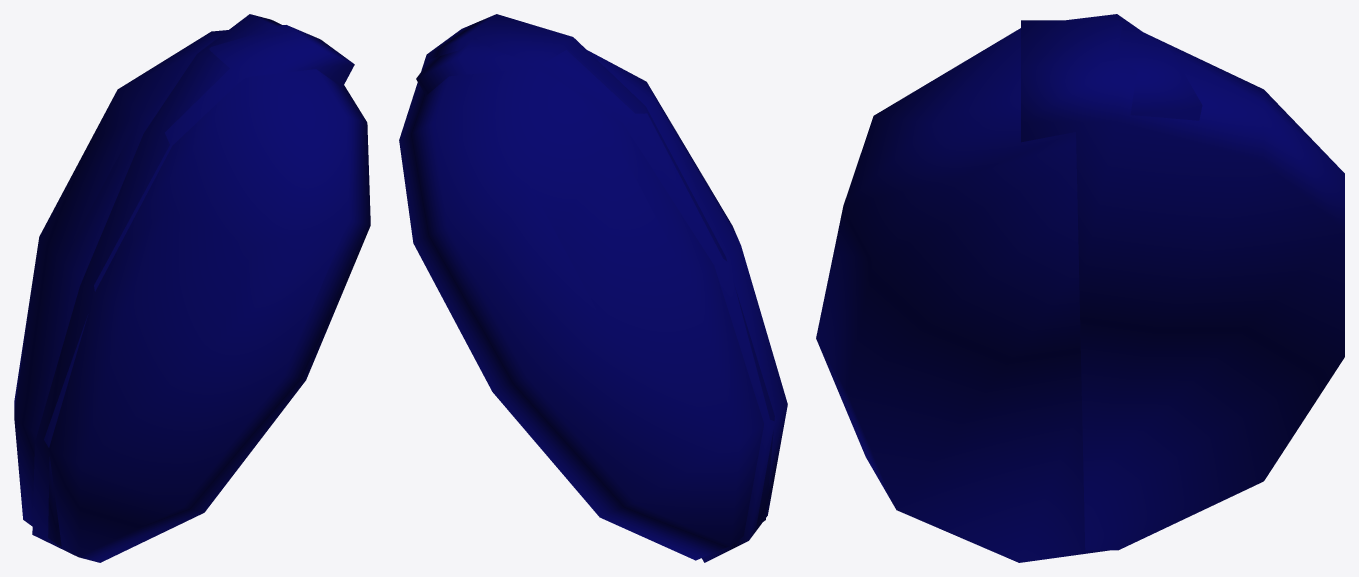
The model's file is playerLeftArm.fbx.
3 views of the same model, side by side, from view 1: azimuth 30°, elevation 25°; view 2: azimuth 150°, elevation 25°; view 3: azimuth 270°, elevation 25° (orthographic). The views are drawn at different scales.
Visible parts, largest first — view 1: Shape_IndexedFaceSet.001; view 2: Shape_IndexedFaceSet.001; view 3: Shape_IndexedFaceSet.001.
Part boxes in pixels (x1,y1,x2,y2): Shape_IndexedFaceSet.001: [14, 14, 370, 562]; Shape_IndexedFaceSet.001: [399, 14, 787, 562]; Shape_IndexedFaceSet.001: [816, 14, 1344, 562].
Bounding box in the file's own units: 0.243 × 0.3441 × 0.2532.
